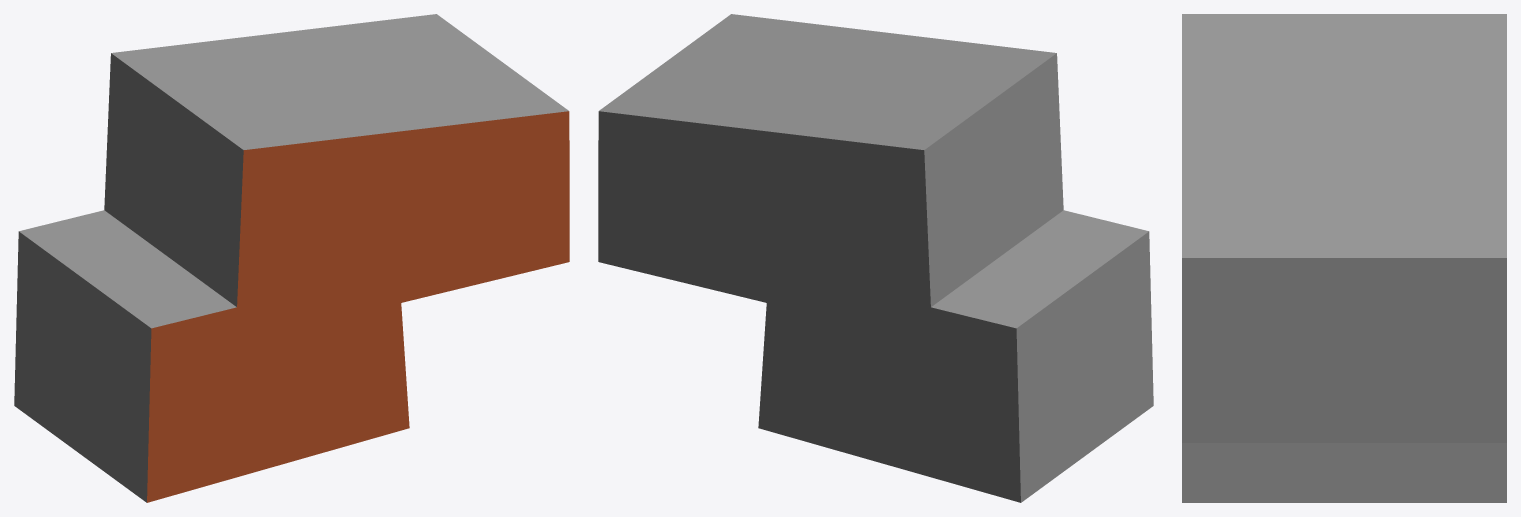
Rendered from construction_5785_assumed_A_Casa_h6m.obj.
3 views of the same model, side by side, from view 1: azimuth 30°, elevation 25°; view 2: azimuth 150°, elevation 25°; view 3: azimuth 270°, elevation 25° (orthographic). The views are drawn at different scales.
Visible parts, largest first — view 1: construction_5785_assumed_A_Casa; view 2: construction_5785_assumed_A_Casa; view 3: construction_5785_assumed_A_Casa.
Boxes of the visible parts, <box> form: construction_5785_assumed_A_Casa: <box>14,14,569,502</box>; construction_5785_assumed_A_Casa: <box>598,14,1153,502</box>; construction_5785_assumed_A_Casa: <box>1182,14,1506,502</box>.
Bounding box in the file's own units: 11.03 × 8.21 × 6.
